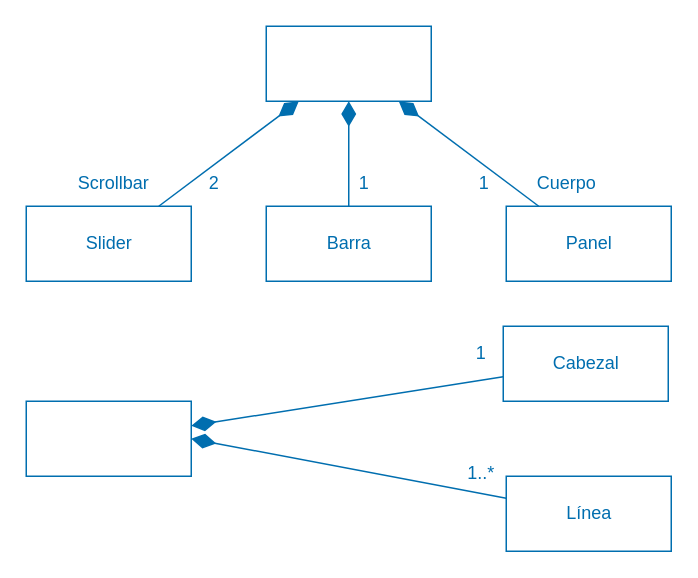
The diagram is 698 pixels wide and 578 high, and some of its shapes have lost their labels. The centre of each missing label's shape, as x and y in pixels:
"Factura" goes at [108,438].
"Ventana" goes at [348,63].
